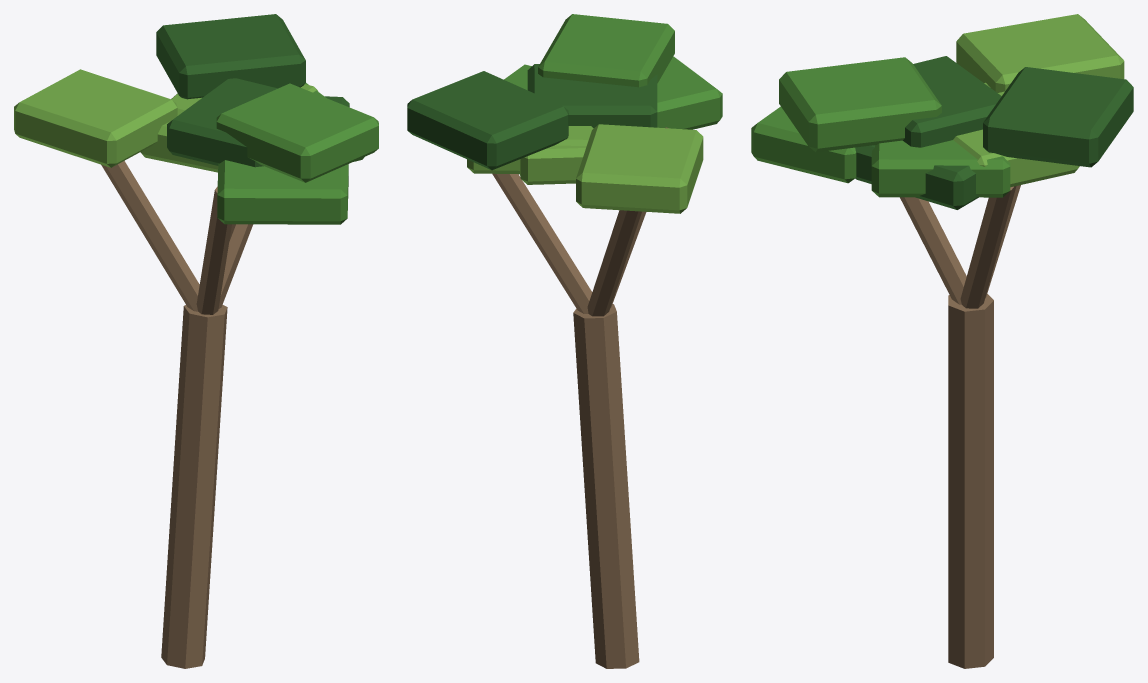
The model's file is arbre_desert_1.glb.
3 renders of one model, left to right at view 1: azimuth 30°, elevation 25°; view 2: azimuth 150°, elevation 25°; view 3: azimuth 270°, elevation 25°, orthographic. The views are drawn at different scales.
Parts seen in each view (by area): view 1: branches_bois_sec.004, feuillage_feuille.012, feuillage_feuille_sombre.012, feuillage_feuille_claire.008; view 2: branches_bois_sec.004, feuillage_feuille_sombre.012, feuillage_feuille_claire.008, feuillage_feuille.012; view 3: branches_bois_sec.004, feuillage_feuille.012, feuillage_feuille_sombre.012, feuillage_feuille_claire.008.
Part boxes in pixels (bbox=[...]): branches_bois_sec.004: bbox=[101, 161, 253, 668]; feuillage_feuille.012: bbox=[216, 83, 378, 224]; feuillage_feuille_sombre.012: bbox=[156, 14, 349, 167]; feuillage_feuille_claire.008: bbox=[14, 69, 318, 172]; branches_bois_sec.004: bbox=[492, 127, 668, 668]; feuillage_feuille_sombre.012: bbox=[407, 64, 657, 170]; feuillage_feuille_claire.008: bbox=[467, 124, 703, 213]; feuillage_feuille.012: bbox=[504, 14, 722, 129]; branches_bois_sec.004: bbox=[900, 185, 1020, 668]; feuillage_feuille.012: bbox=[751, 57, 1010, 197]; feuillage_feuille_sombre.012: bbox=[855, 56, 1133, 209]; feuillage_feuille_claire.008: bbox=[953, 14, 1124, 187].
Bounding box in the file's own units: 1.84 × 3.62 × 2.07.
